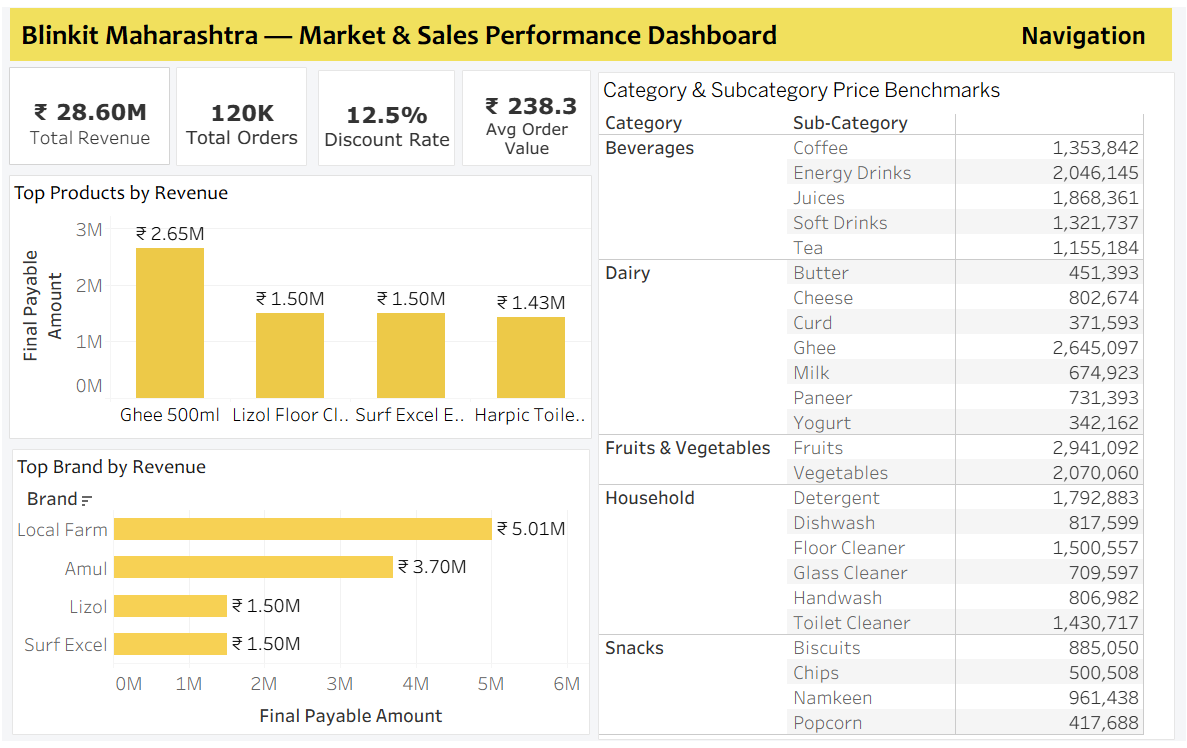

The page's visual inventory and layout, read from the dashboard file:
{"tool":"tableau","page":{"name":"Market & Sales Performance","canvas":[1200,750],"ordinal":3},"visuals":[{"type":"text","box":[16,9,1162,53]},{"type":"dashboard-object","box":[1011,14,156,43]},{"type":"worksheet","title":"KPI - Total Revenue","mark":"Automatic","box":[15,68,161,98]},{"type":"worksheet","title":"KPI - Total Orders","mark":"Automatic","box":[182,68,131,99]},{"type":"worksheet","title":"KPI - Discount %","mark":"Automatic","box":[324,71,137,96]},{"type":"worksheet","title":"KPI - AOV","mark":"Automatic","box":[468,71,129,96]},{"type":"worksheet","title":"Base Price Distribution by Category","mark":"Automatic","rows":["Category","Sub-Category"],"box":[604,73,577,668]},{"type":"worksheet","title":"Product Based Top Ranking","mark":"Automatic","rows":["Final Payable Amount"],"cols":["Product Name"],"box":[15,176,583,264]},{"type":"worksheet","title":"Top Brand and Base Price ","mark":"Automatic","rows":["Brand"],"cols":["Final Payable Amount"],"box":[18,450,578,286]}]}

Visuals, with their boxes in screenshot pixels (x1, y1, x2, y2), scaled from the page's 1200x750 canvas onto the 1187x748 screenshot:
text: Rect(16, 9, 1165, 62)
dashboard-object: Rect(1000, 14, 1154, 57)
"KPI - Total Revenue" worksheet: Rect(15, 68, 174, 166)
"KPI - Total Orders" worksheet: Rect(180, 68, 310, 167)
"KPI - Discount %" worksheet: Rect(320, 71, 456, 167)
"KPI - AOV" worksheet: Rect(463, 71, 591, 167)
"Base Price Distribution by Category" worksheet: Rect(597, 73, 1168, 739)
"Product Based Top Ranking" worksheet: Rect(15, 176, 592, 439)
"Top Brand and Base Price " worksheet: Rect(18, 449, 590, 734)
